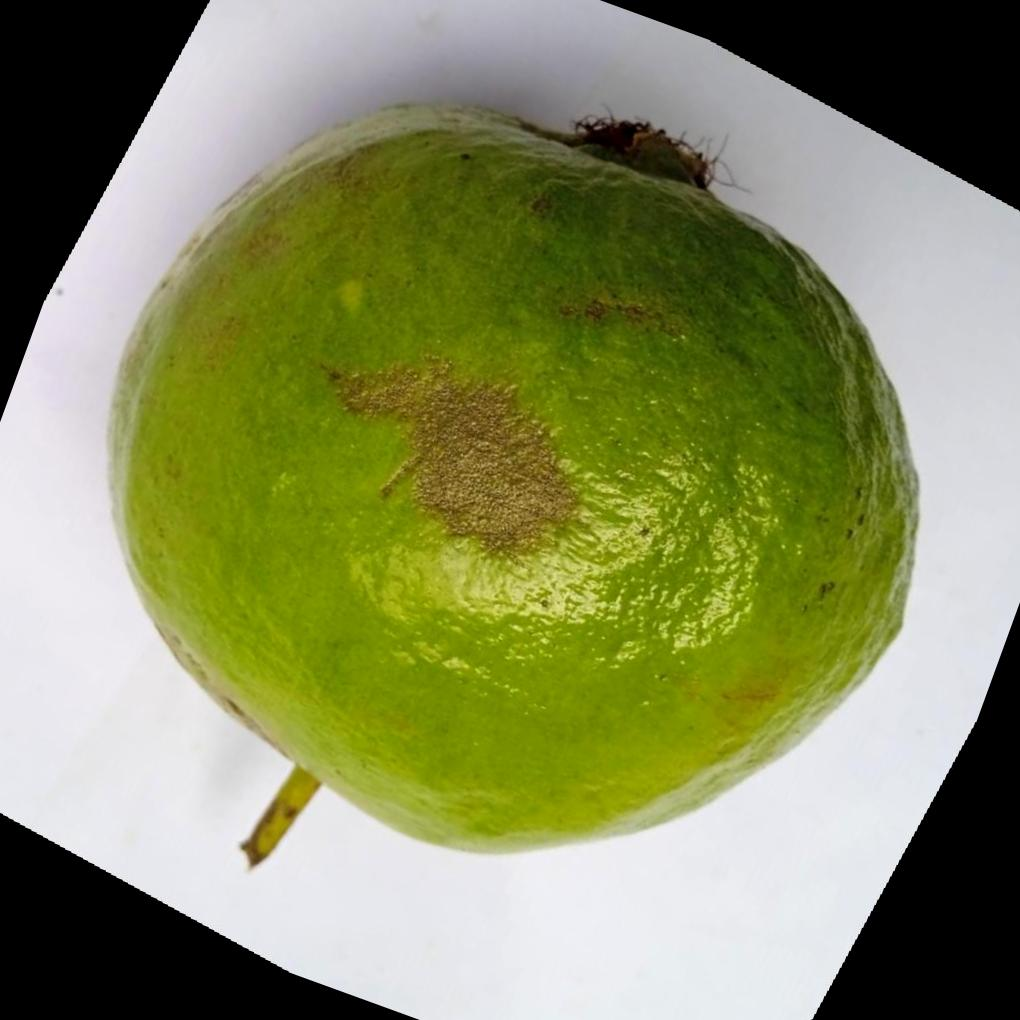FreshGuava: (105, 102, 919, 862)
